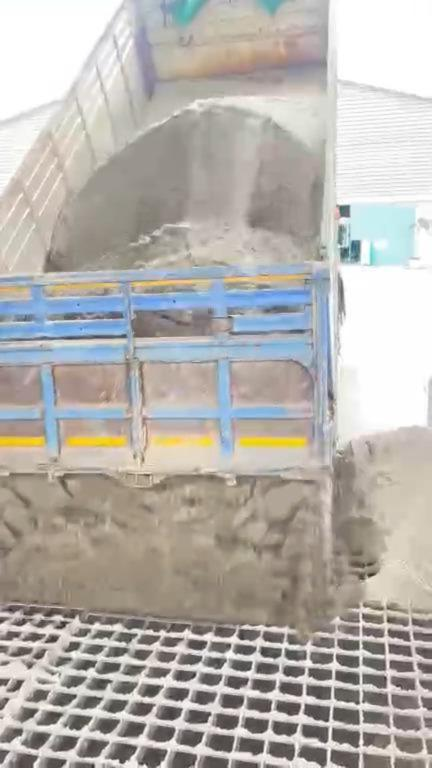sand: (1, 430, 430, 631), (48, 100, 323, 270)
